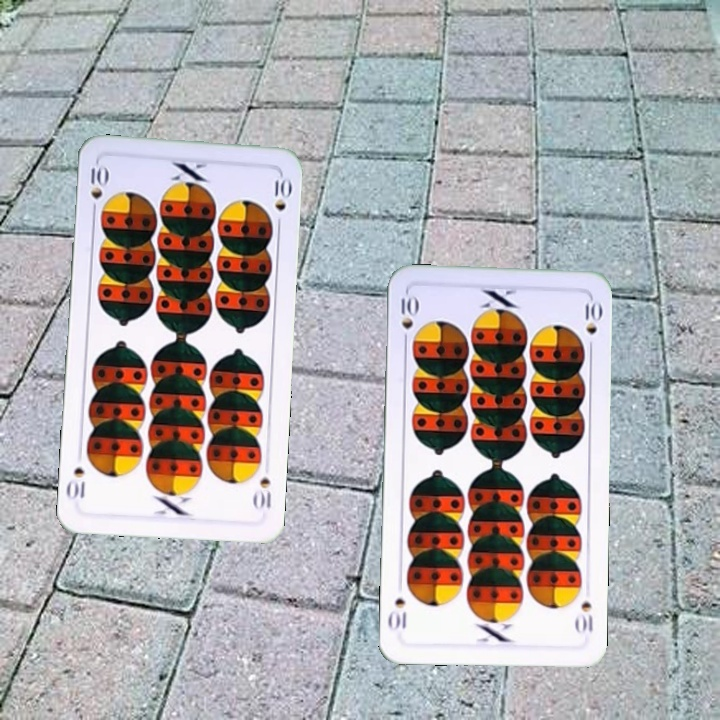S10: (87, 159, 109, 218), (397, 291, 418, 348), (250, 472, 274, 512), (572, 597, 596, 636)
